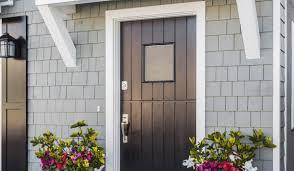door: (116, 19, 197, 171)
